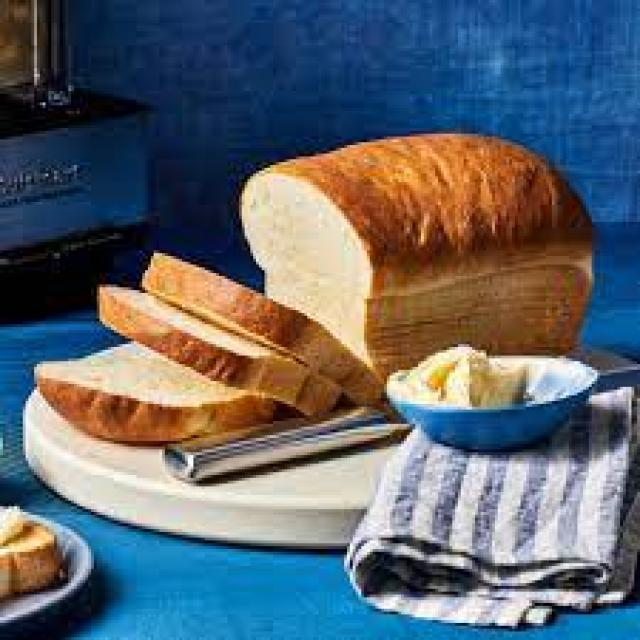Bread: (36, 342, 275, 443)
